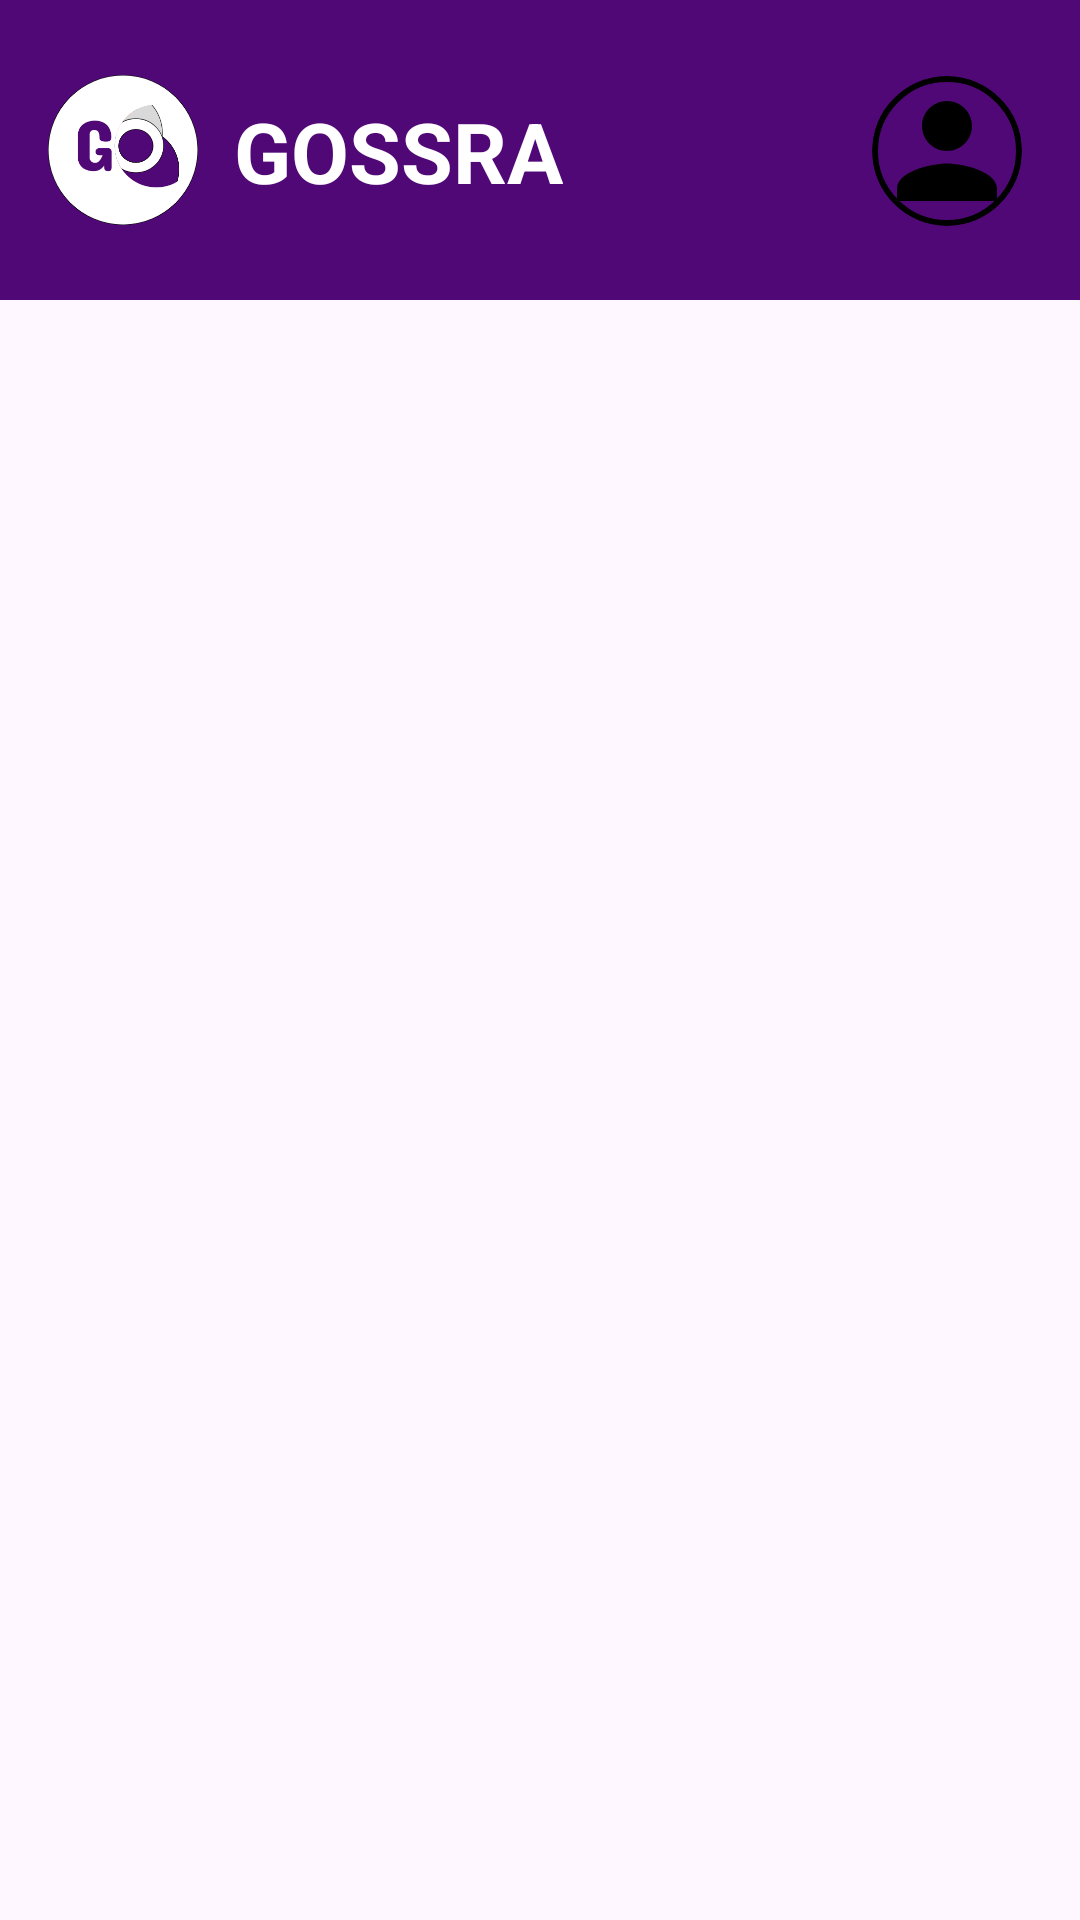

Where to tap for icons on this 1080 × 1920 app screen, as (x=x, y=y):
person: (x=947, y=151)
